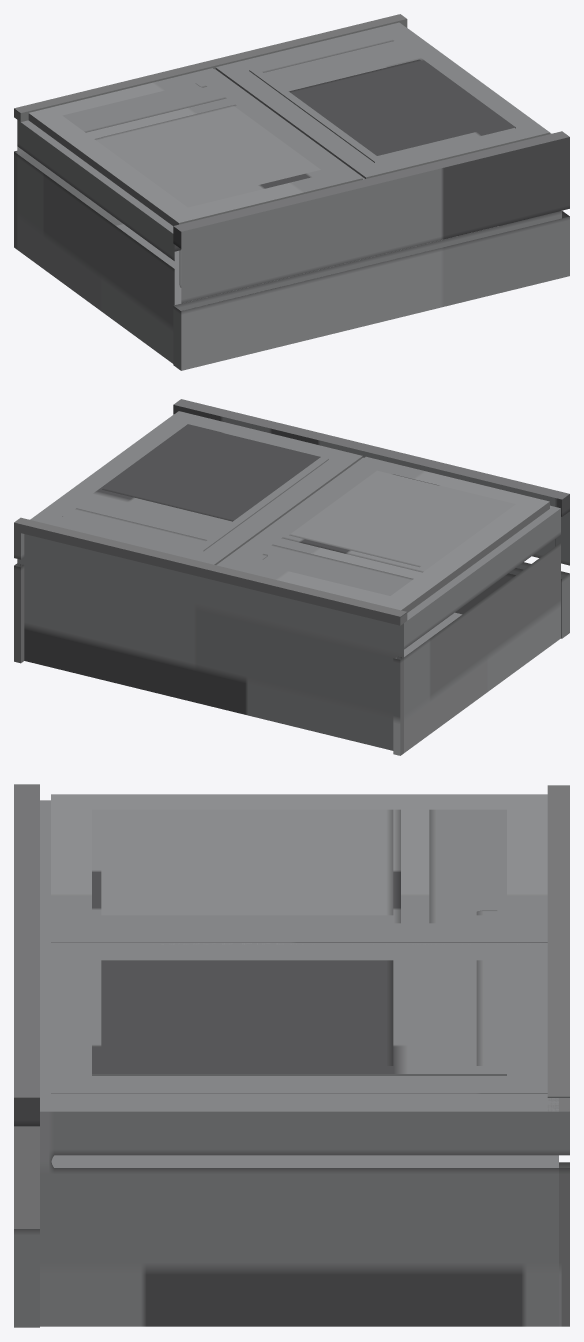
3 views of the same model, one above another, from view 1: azimuth 30°, elevation 25°; view 2: azimuth 150°, elevation 25°; view 3: azimuth 270°, elevation 25° (orthographic). The views are drawn at different scales.
Size of the model in its own units: 1 by 0.3669 by 0.75.
